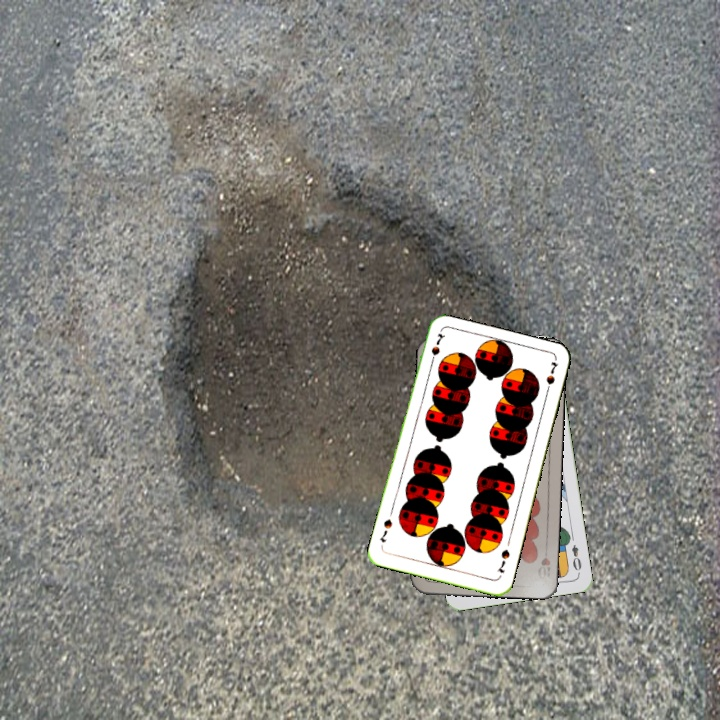EO: (568, 540, 584, 573)
H10: (534, 554, 552, 582)
S7: (426, 329, 447, 368), (493, 545, 512, 575)
